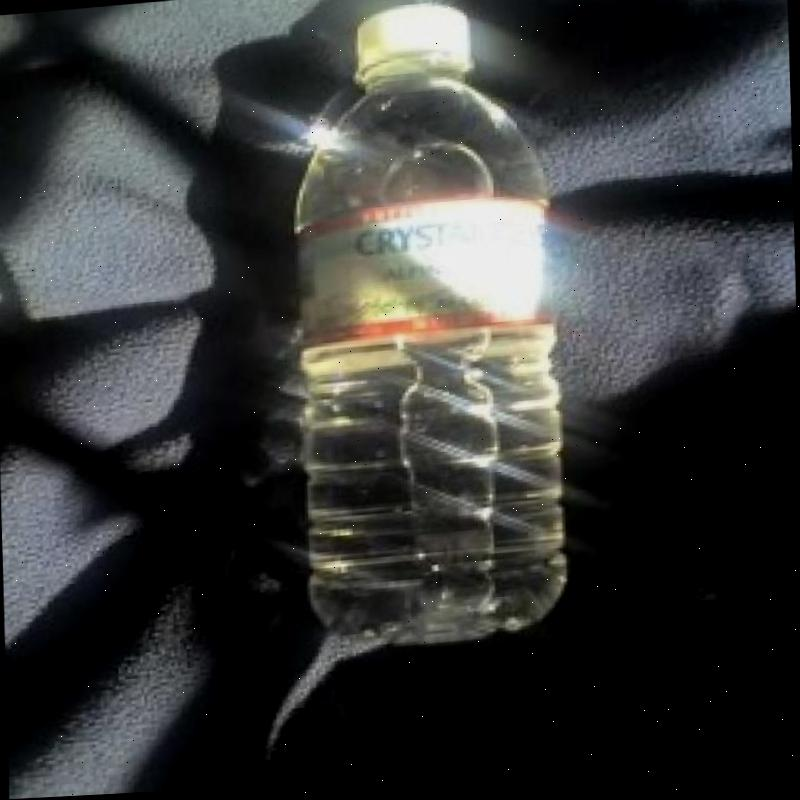botella: (280, 0, 574, 656)
